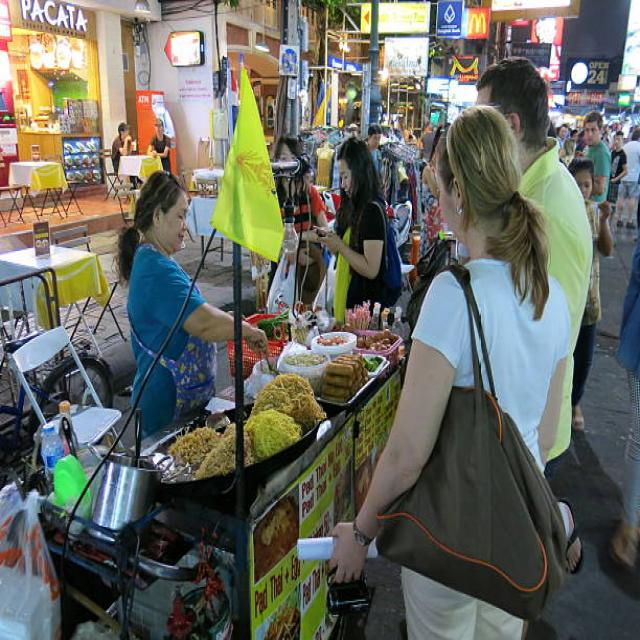Emperan: (55, 253, 430, 640)
